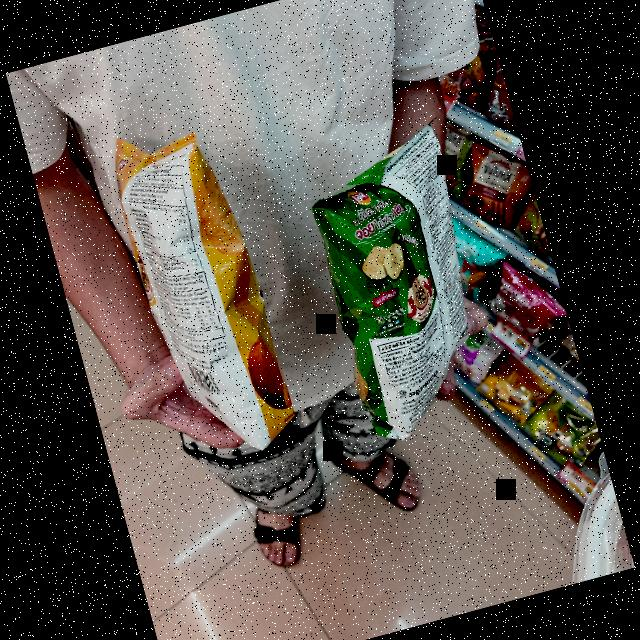snack_bag: (72, 91, 324, 472), (276, 107, 534, 454)
